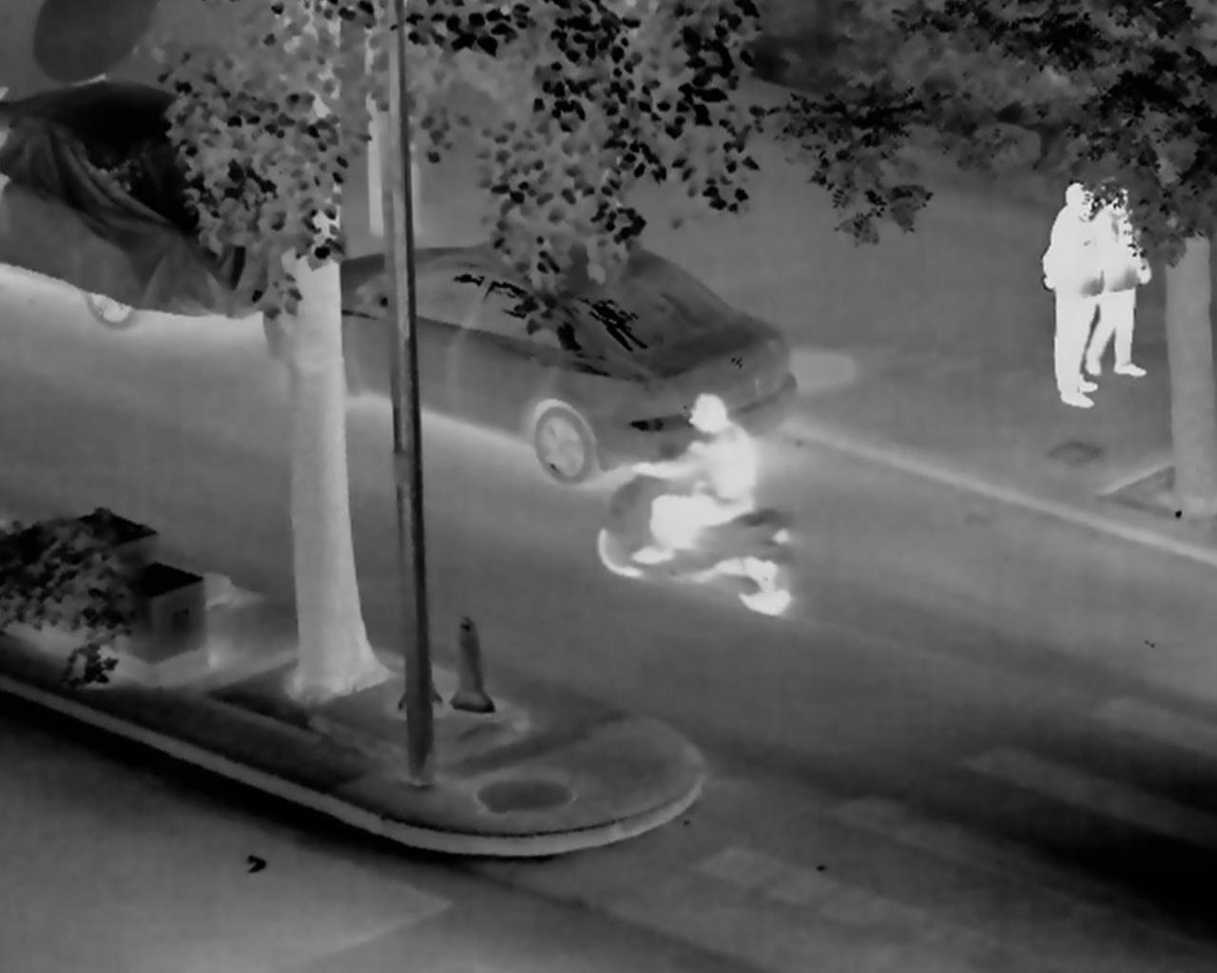person: (631, 395, 757, 569), (1044, 181, 1099, 411), (1086, 187, 1149, 387)
